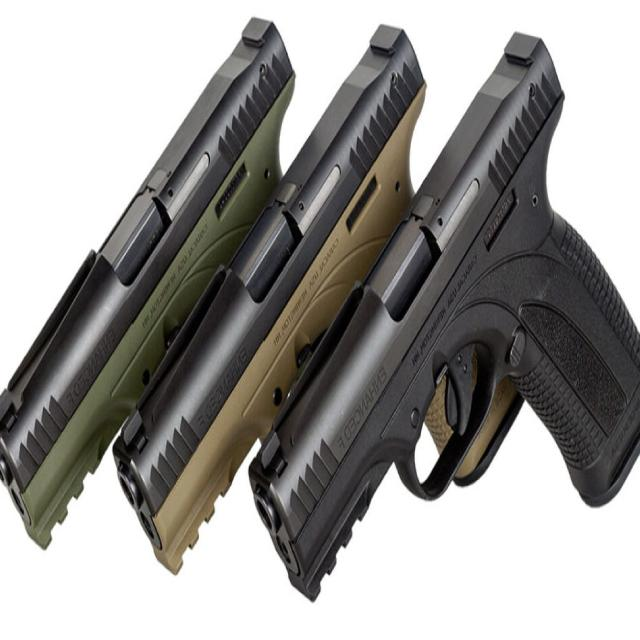Gun: (114, 11, 531, 586), (0, 0, 394, 605), (248, 22, 640, 612)
